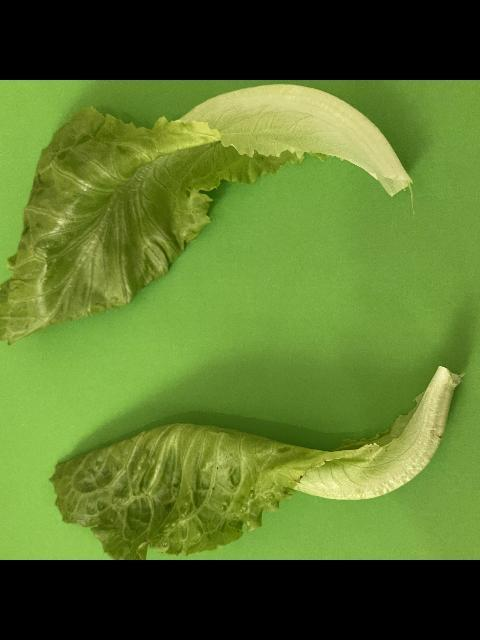lettuce: (0, 80, 412, 347), (43, 364, 464, 560)
